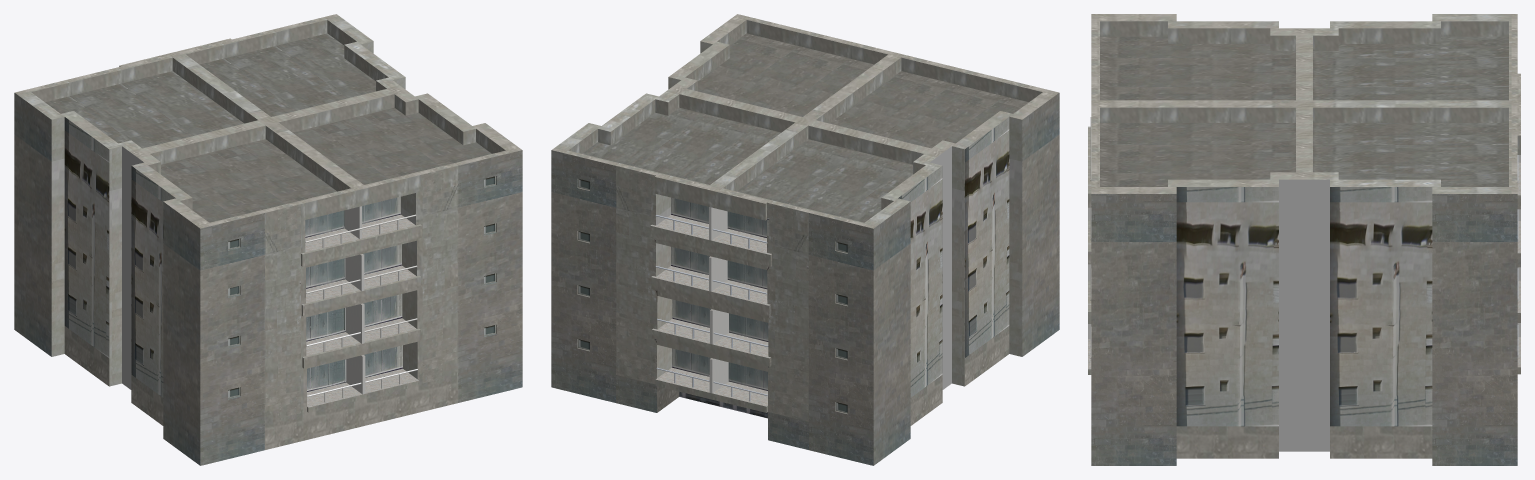
The model's file is BUILDINGFINALNEW.gltf.
3 views of the same model, side by side, from view 1: azimuth 30°, elevation 25°; view 2: azimuth 150°, elevation 25°; view 3: azimuth 270°, elevation 25° (orthographic). The views are drawn at different scales.
Visible parts, largest first — view 1: node6, node14, node12, node7, node2, node1, node10, node4, node5, node3, node9; view 2: node7, node6, node12, node2, node14, node1, node10, node4, node13, node3, node5, node8 (+1 smaller); view 3: node2, node7, node12, node6, node3, node4, node5.
Boxes of the visible parts, x1,y1,x2,y2 form: node6: [15, 14, 521, 449]; node14: [200, 150, 522, 465]; node12: [45, 33, 491, 222]; node7: [14, 93, 200, 465]; node2: [64, 117, 175, 397]; node1: [51, 41, 417, 386]; node10: [305, 196, 402, 391]; node4: [305, 214, 418, 407]; node5: [305, 206, 417, 402]; node3: [122, 146, 143, 389]; node9: [228, 176, 495, 398]; node7: [551, 93, 1059, 465]; node6: [552, 14, 1058, 425]; node12: [582, 33, 1028, 412]; node2: [898, 117, 1009, 397]; node14: [616, 169, 808, 417]; node1: [656, 41, 1022, 386]; node10: [671, 197, 768, 390]; node4: [650, 215, 771, 406]; node13: [616, 166, 808, 421]; node3: [930, 146, 951, 389]; node5: [709, 207, 728, 393]; node8: [655, 215, 767, 401]; node2: [1176, 187, 1432, 426]; node7: [1091, 194, 1517, 465]; node12: [1100, 36, 1508, 186]; node6: [1088, 14, 1520, 458]; node3: [1279, 179, 1329, 451]; node4: [1088, 162, 1520, 369]; node5: [1088, 117, 1520, 358].
Bounding box in the file's own units: 25 × 17.6 × 25.4.
